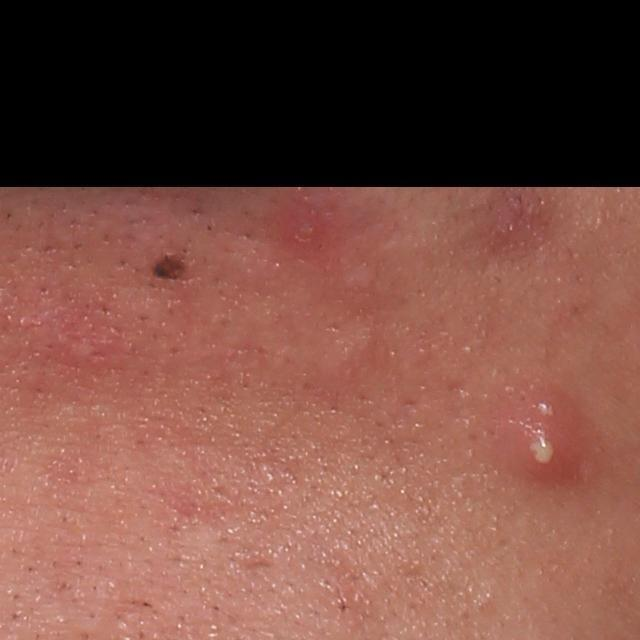atrophic_scar: (239, 554, 279, 573)
hypertrophic_scar: (314, 322, 378, 386)
nevus: (146, 240, 195, 290)
pustule: (490, 376, 606, 490)
